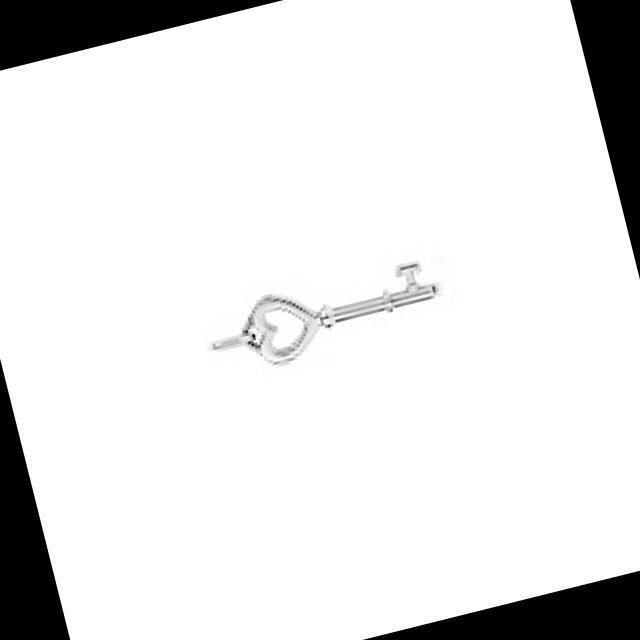Keys: (207, 260, 441, 364)
